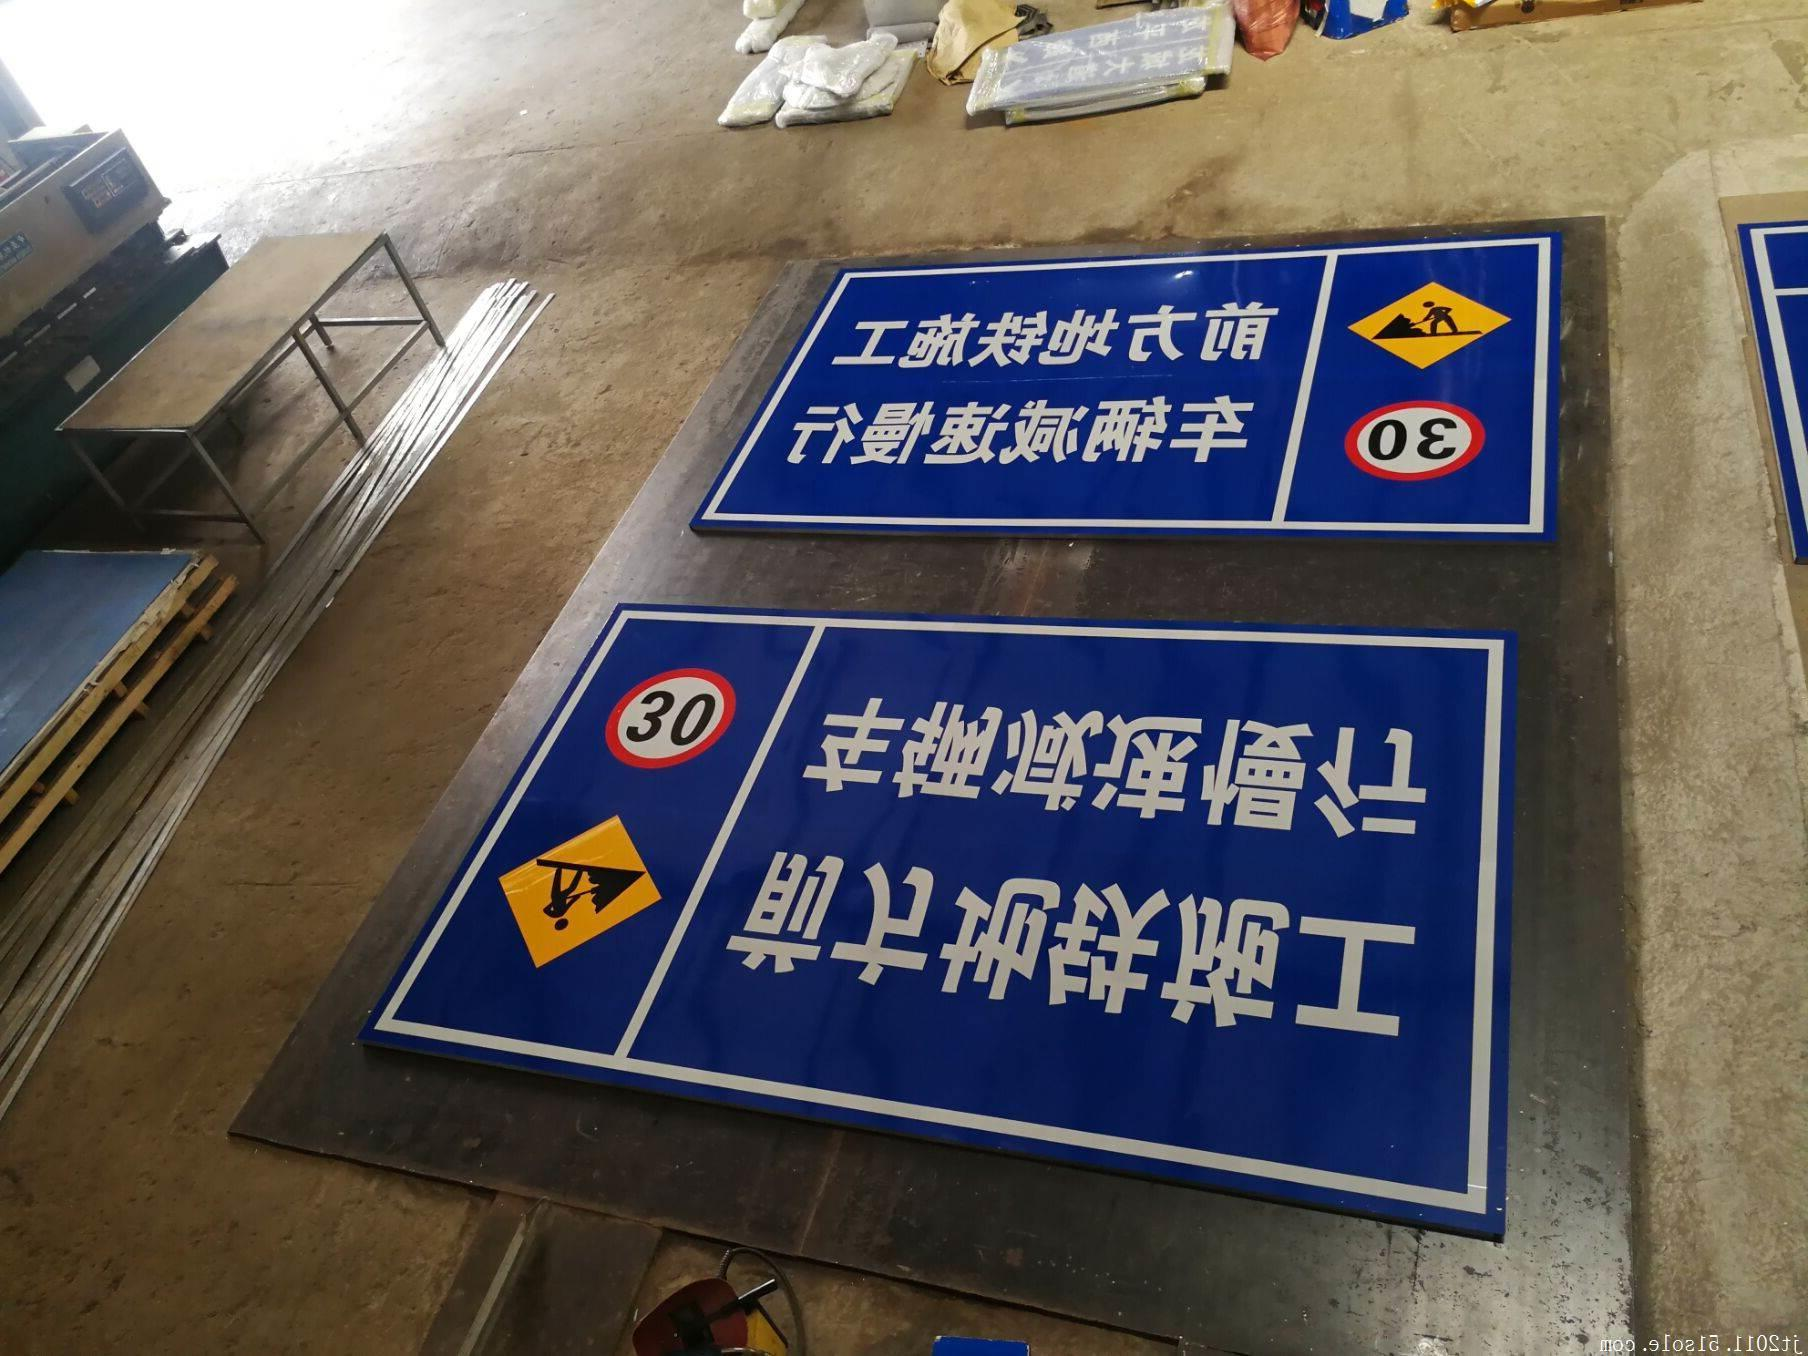sign: (354, 595, 1530, 1245), (690, 229, 1560, 548)
